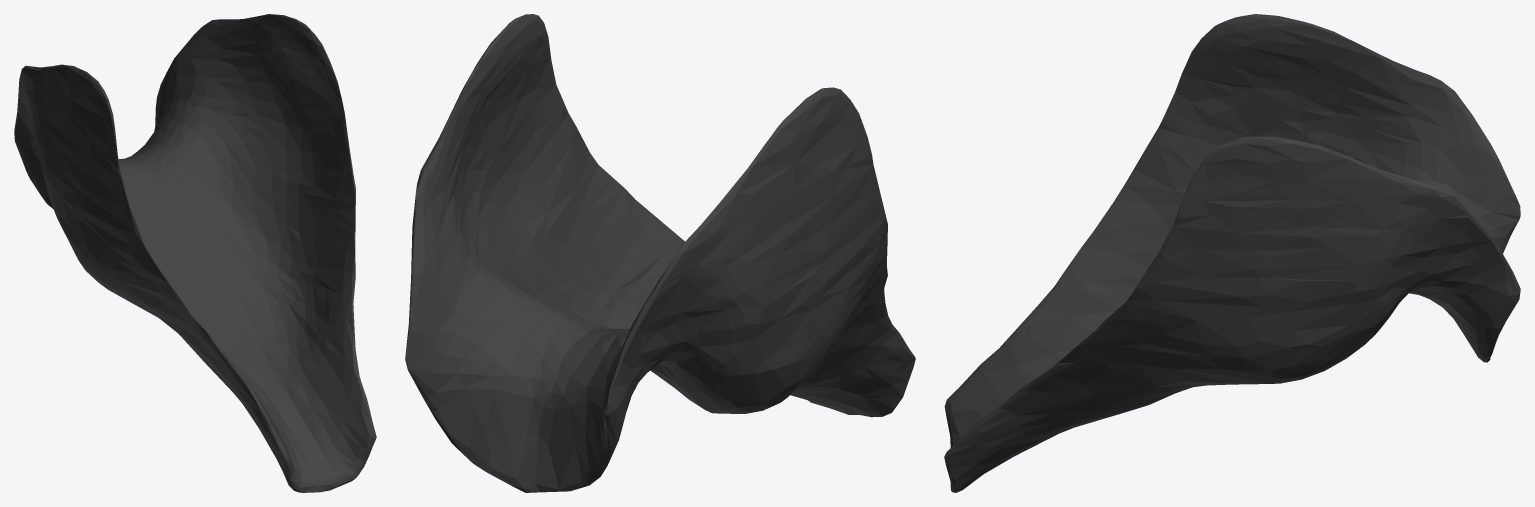
The model's file is m_cutaneous_face.glb.
3 views of the same model, side by side, from view 1: azimuth 30°, elevation 25°; view 2: azimuth 150°, elevation 25°; view 3: azimuth 270°, elevation 25° (orthographic). The views are drawn at different scales.
Visible parts, largest first — view 1: m_cutaneous_face; view 2: m_cutaneous_face; view 3: m_cutaneous_face.
Boxes of the visible parts, bbox=[...] form: m_cutaneous_face: bbox=[14, 14, 376, 492]; m_cutaneous_face: bbox=[405, 14, 915, 492]; m_cutaneous_face: bbox=[944, 14, 1520, 492].
Size of the model in its own units: 0.00337 by 0.00489 by 0.00627.
Materials: 1 (1 with a texture image).
